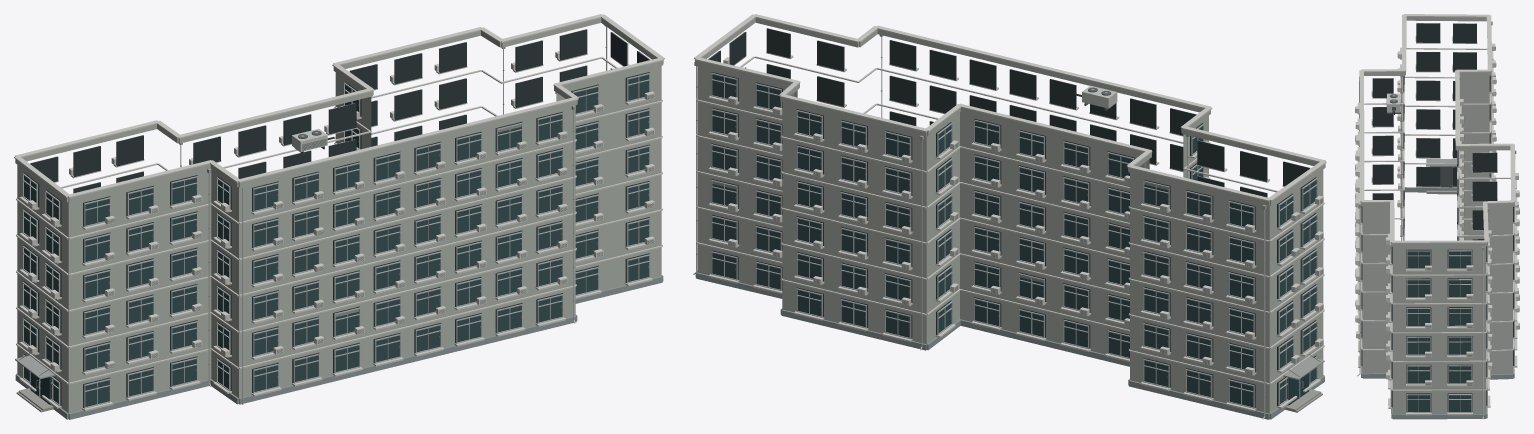
Rendered from osm_way_223859816.glb.
The picture shows the model from 3 angles, left to right: view 1: azimuth 30°, elevation 25°; view 2: azimuth 150°, elevation 25°; view 3: azimuth 270°, elevation 25°; orthographic projection. The views are drawn at different scales.
Visible parts, largest first — view 1: Windows and facade details | 14, Architecture | 14, Roof services | 14, EXTERIOR::osm_way_223859816::rainwater and roof service deta, EXTERIOR::osm_way_223859816::inferred entry doors canopy and; view 2: Architecture | 14, Windows and facade details | 14, Roof services | 14, EXTERIOR::osm_way_223859816::rainwater and roof service deta, EXTERIOR::osm_way_223859816::inferred entry doors canopy and; view 3: Architecture | 14, Windows and facade details | 14, Roof services | 14, EXTERIOR::osm_way_223859816::rainwater and roof service deta, EXTERIOR::osm_way_223859816::inferred entry doors canopy and.
Part boxes in pixels (x1,y1,x2,y2): Windows and facade details | 14: (19, 29, 654, 411); Architecture | 14: (15, 18, 663, 419); Roof services | 14: (14, 14, 664, 198); EXTERIOR::osm_way_223859816::rainwater and roof service deta: (178, 25, 607, 386); EXTERIOR::osm_way_223859816::inferred entry doors canopy and: (15, 353, 55, 412); Architecture | 14: (695, 18, 1325, 419); Windows and facade details | 14: (708, 28, 1323, 411); Roof services | 14: (694, 14, 1326, 201); EXTERIOR::osm_way_223859816::rainwater and roof service deta: (693, 35, 1266, 419); EXTERIOR::osm_way_223859816::inferred entry doors canopy and: (1283, 354, 1324, 412); Architecture | 14: (1360, 17, 1514, 419); Windows and facade details | 14: (1355, 23, 1519, 415); Roof services | 14: (1359, 14, 1515, 243); EXTERIOR::osm_way_223859816::rainwater and roof service deta: (1357, 21, 1517, 419); EXTERIOR::osm_way_223859816::inferred entry doors canopy and: (1426, 159, 1456, 194).
Bounding box in the file's own units: 56.13 × 20.58 × 16.63.
